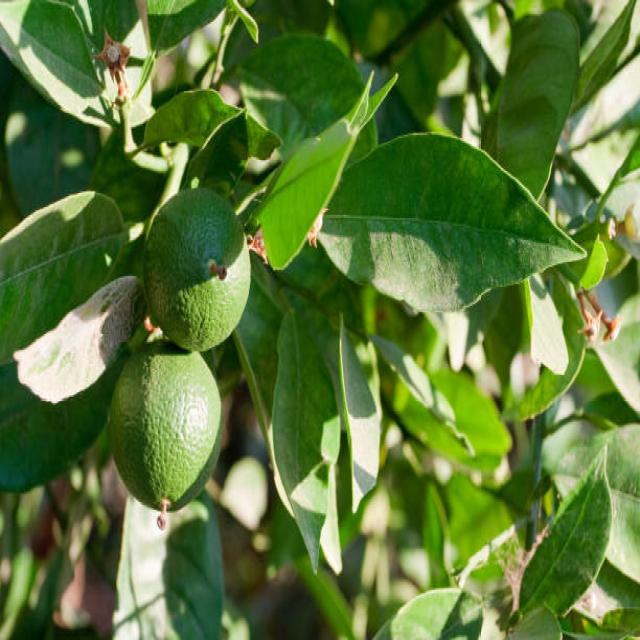Unripe: (108, 340, 225, 515), (140, 187, 253, 352)
